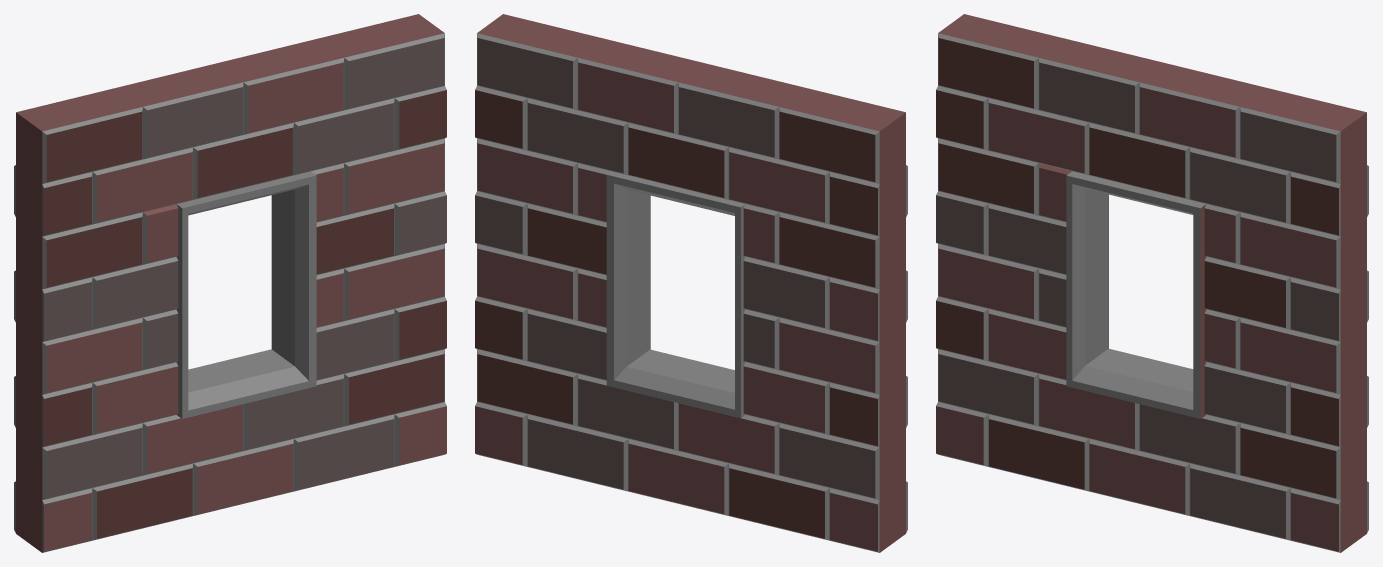
Rendered from steampunk_wall_brick_window.fbx.
3 renders of one model, left to right at view 1: azimuth 30°, elevation 25°; view 2: azimuth 150°, elevation 25°; view 3: azimuth 330°, elevation 25°, orthographic.
Parts seen in each view (by area): view 1: Cube.037; view 2: Cube.037; view 3: Cube.037.
Part boxes in pixels (left/top/right/bottom): Cube.037: left=14, top=14, right=446, bottom=552; Cube.037: left=475, top=14, right=907, bottom=552; Cube.037: left=936, top=14, right=1368, bottom=552.
Bounding box in the file's own units: 3 × 3 × 0.4725.
